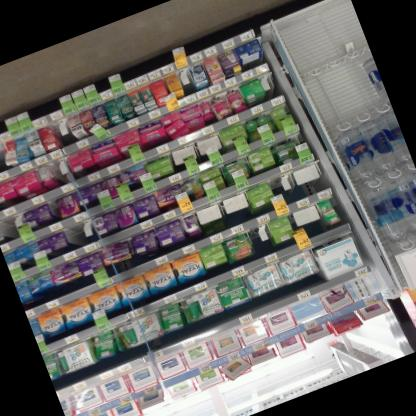empty_space: (288, 204, 324, 240), (290, 162, 324, 197), (247, 223, 277, 259), (220, 192, 251, 225), (64, 219, 98, 249), (268, 175, 296, 207), (52, 118, 76, 147), (174, 66, 197, 95), (50, 158, 71, 184), (0, 144, 8, 176)
